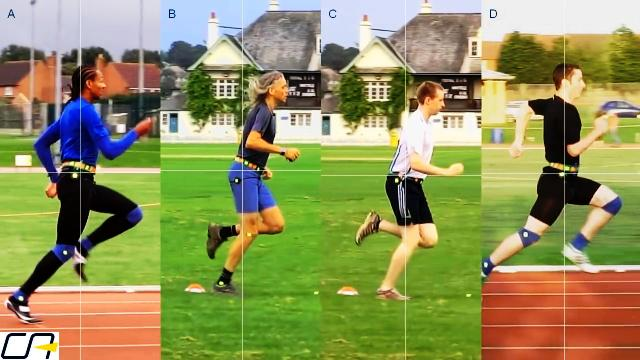berlari: (0, 67, 150, 329), (483, 56, 623, 290), (352, 75, 468, 305), (202, 62, 308, 298)
